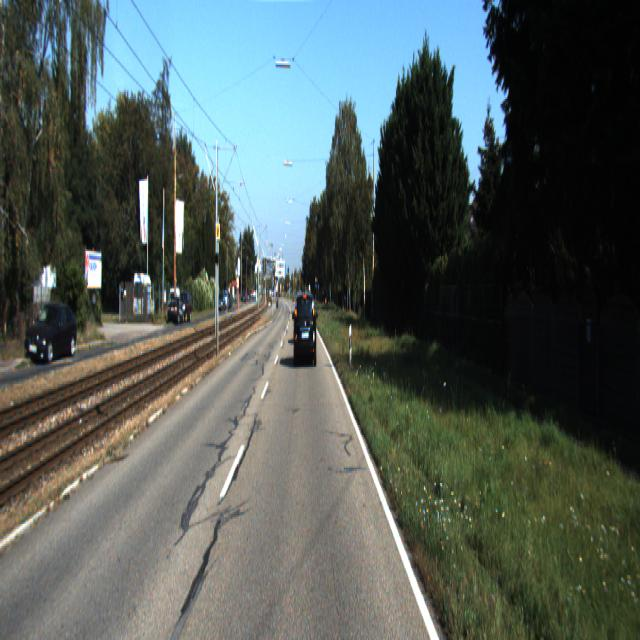Car: (28, 303, 76, 366), (294, 290, 317, 367), (133, 270, 156, 322), (168, 296, 186, 325)
